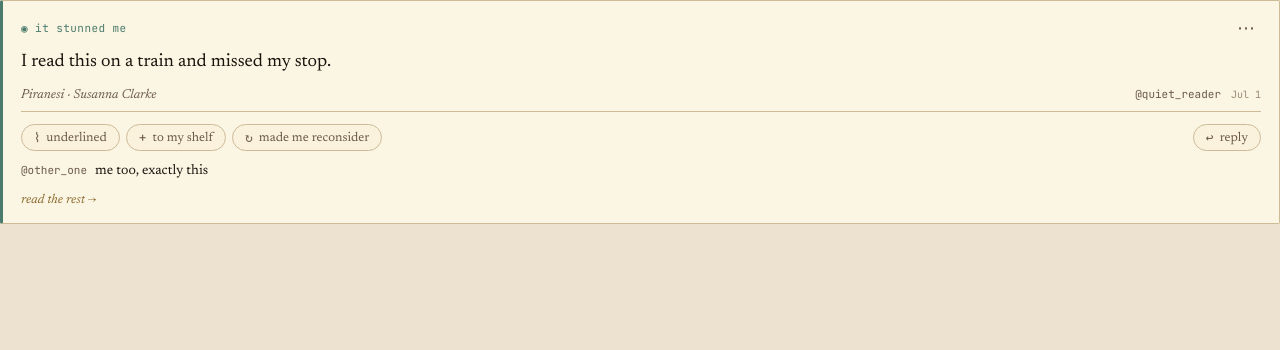
Scenario: EchoCard — inline replies [F6.2] › posts a reply and shows it inline immediately (optimistic)
Click the button "↩ reply": point(1227, 137) [1193, 124, 1261, 151]
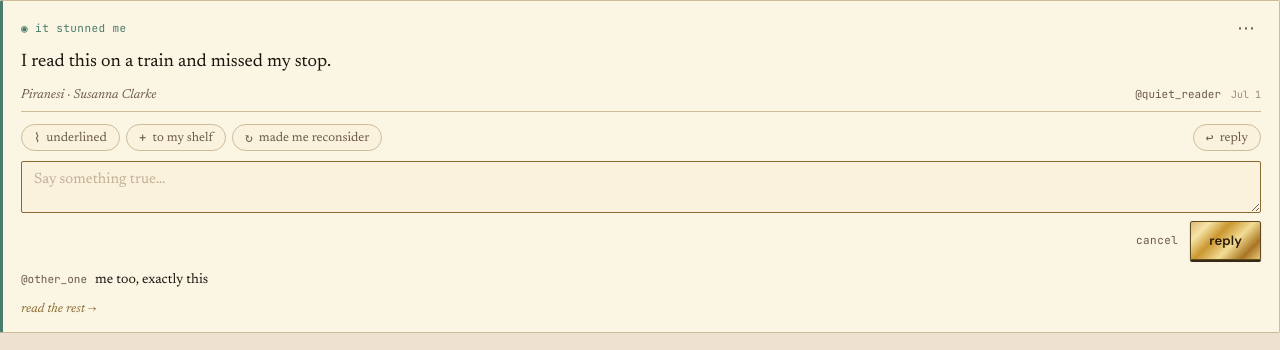
In the text box named "your reply": point(641, 187) [21, 161, 1261, 213], type "this wrecked me"
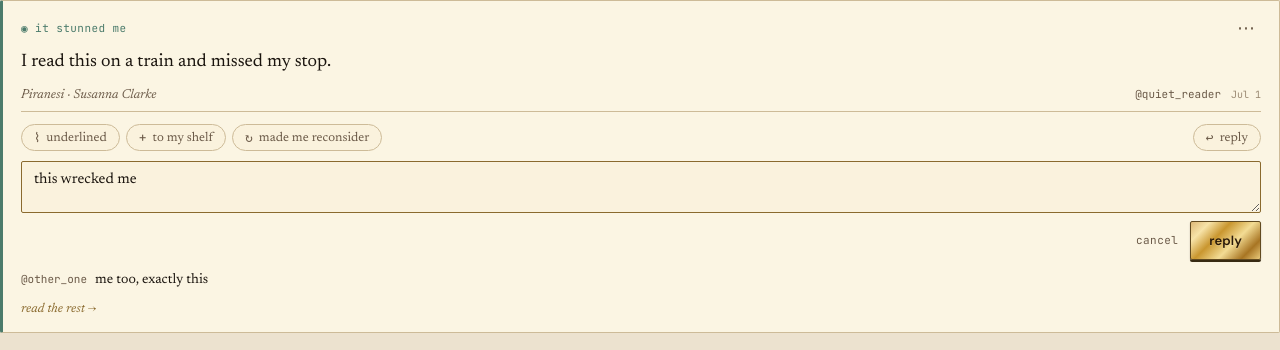
Click the button "reply": point(1226, 240) [1190, 221, 1261, 260]
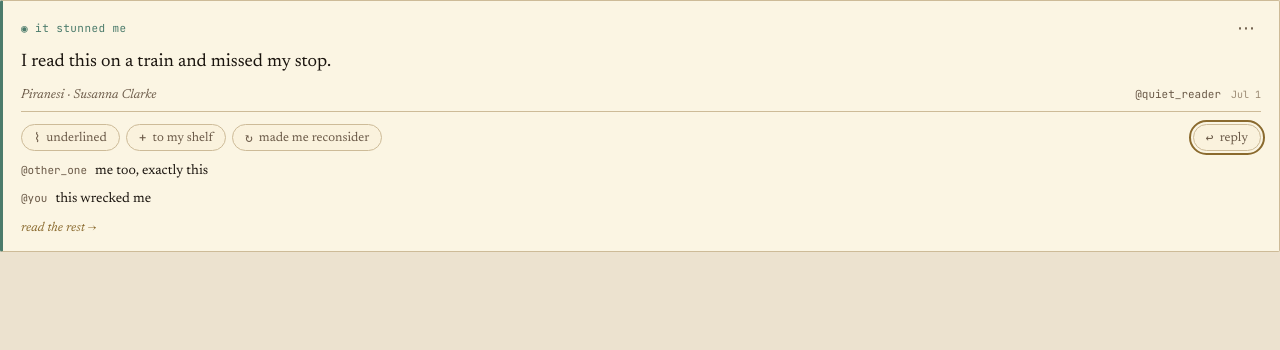
Check: the text "this wrecked me" is shown, box [55, 189, 151, 210]
